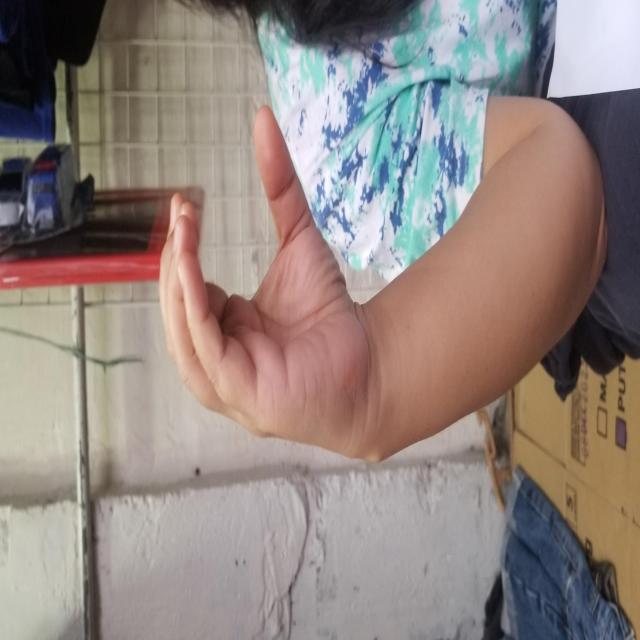C: (180, 158, 536, 366)
